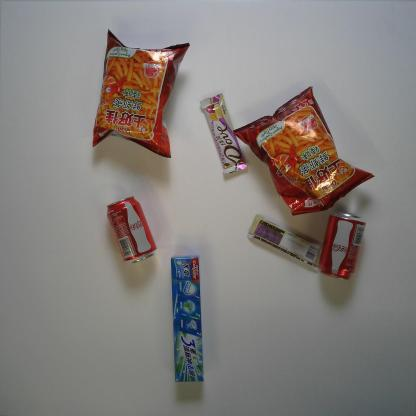Chocolate: (249, 214, 324, 268), (200, 92, 248, 175)
Drink: (106, 195, 157, 264), (319, 210, 367, 281)
Personal Hygiene: (170, 254, 204, 383)
Puffed Food: (233, 85, 376, 216), (91, 28, 190, 159)
